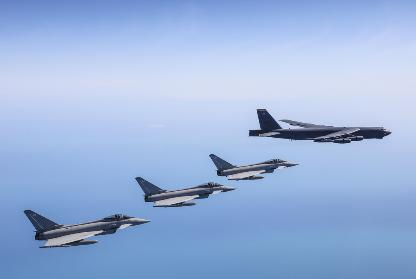B2: (248, 109, 390, 142)
E2: (23, 209, 150, 248), (135, 176, 237, 207), (209, 153, 299, 180)
